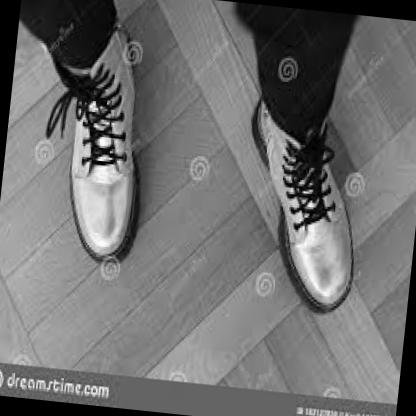ankle: (111, 48, 118, 57), (274, 123, 279, 134)
heel: (129, 78, 134, 84), (254, 120, 258, 124)
left_foot: (233, 87, 373, 316)
pinky: (82, 223, 87, 231), (344, 255, 349, 263)
right_foot: (49, 22, 158, 268)
toe: (311, 285, 317, 295), (117, 231, 122, 240)
